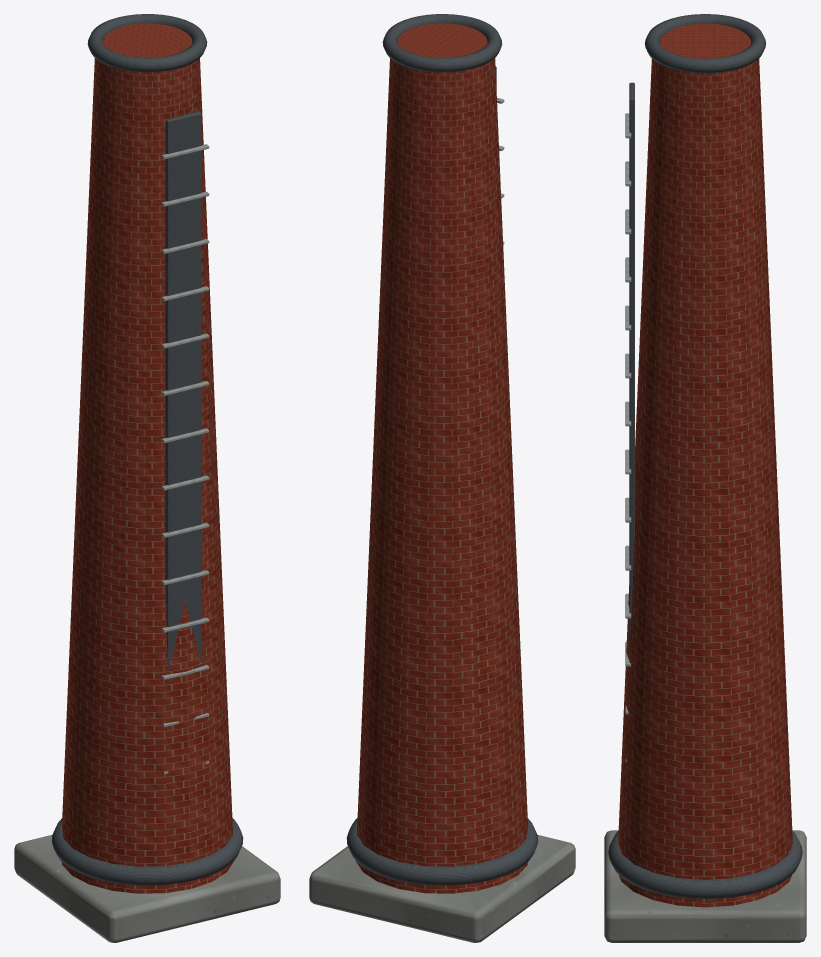
Rendered from service-industrial-stack.lod0.gltf.
3 renders of one model, left to right at view 1: azimuth 30°, elevation 25°; view 2: azimuth 150°, elevation 25°; view 3: azimuth 270°, elevation 25°, orthographic.
Parts seen in each view (by area): view 1: service-industrial-stack; view 2: service-industrial-stack; view 3: service-industrial-stack.
Part boxes in pixels (x1,y1,x2,y2): service-industrial-stack: [14, 14, 280, 942]; service-industrial-stack: [309, 14, 575, 942]; service-industrial-stack: [604, 14, 806, 942].
Size of the model in its own units: 2.1 by 9.92 by 2.1.
Materials: 4 (4 with a texture image).
